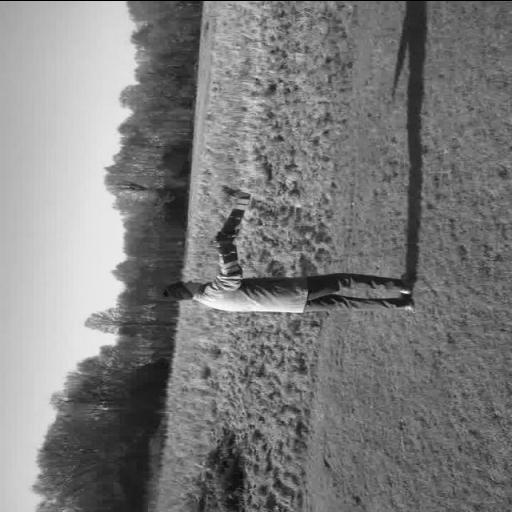uav: (208, 188, 258, 278)
